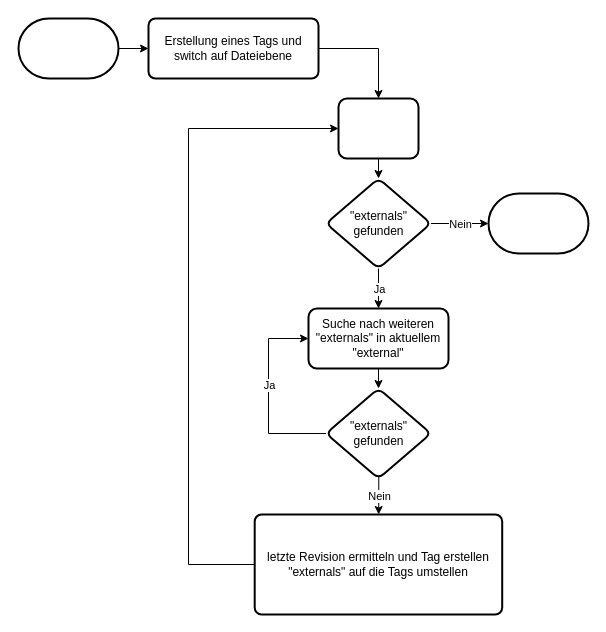
The diagram is 606 pixels wide and 632 high, and some of its shapes have lost their labels. Here are the shapes that lost their labels. From the top down, the centre of each, then its label:
(x=68, y=48): Release herunterladen
(x=378, y=128): Suche nach "externals"
(x=538, y=223): ZIP und Download
